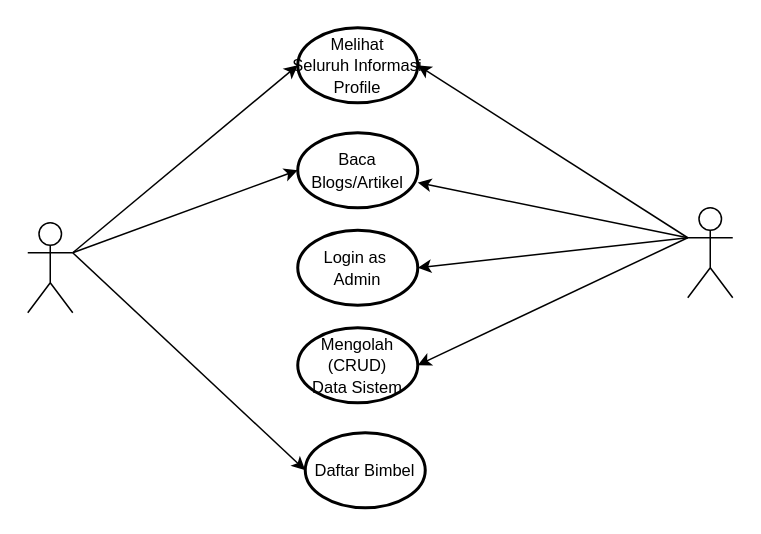
The diagram is 761 pixels wide and 534 high, and some of its shapes have lost their labels. The shapes that lost their labels are listed below. From the top down, each one's box as (x1, y1, x2, y2) in pixels, then its label:
(26, 221, 73, 313): Guest
(686, 206, 733, 298): Admin
